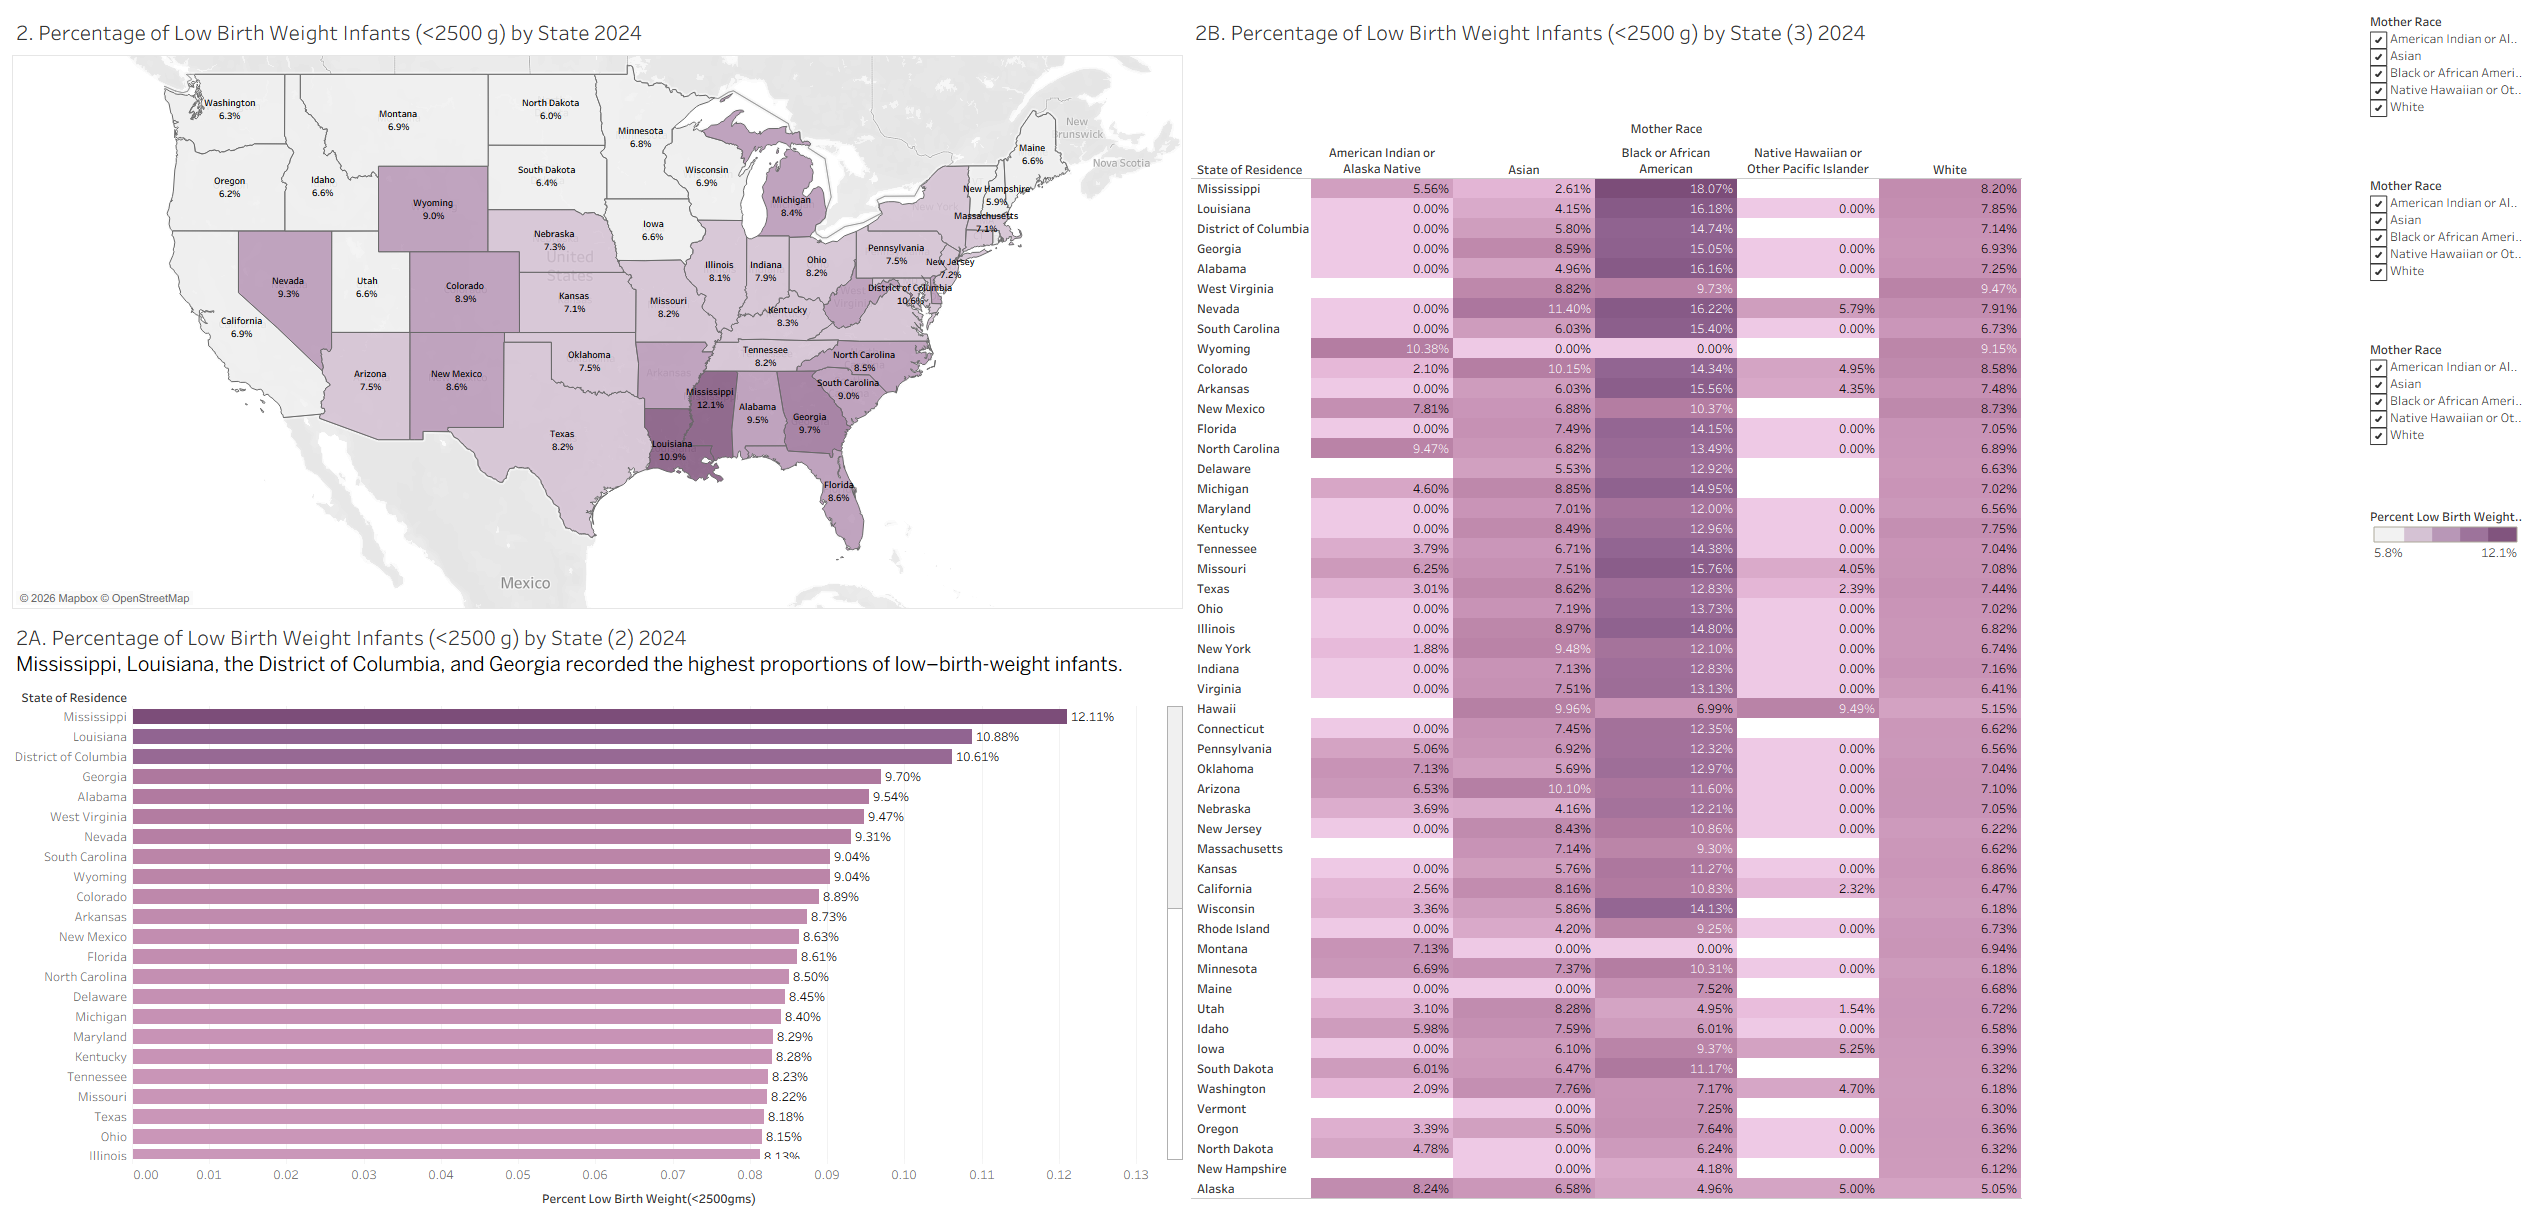

What the dashboard file says about the page in this screenshot:
{"tool":"tableau","page":{"name":"Dashboard D","canvas":[1000,1000],"units":"permille","ordinal":3},"visuals":[{"type":"worksheet","title":"2. Percentage of Low Birth Weight Infants (<2500 g) by State","mark":"Automatic","box":[3.2,6.4,465.2,493.6]},{"type":"worksheet","title":"2B. Percentage of Low Birth Weight Infants (<2500 g) by State","mark":"Square","rows":["State of Residence"],"cols":["Mother_Race"],"box":[468.4,6.4,465.3,987.1]},{"type":"filter","title":"2B. Percentage of Low Birth Weight Infants (<2500 g) by State","param":"[federated.0kmax0u1cyo38e0zmolzw0ysq9om].[none:Mother_Race:nk]","box":[933.7,6.4,63.1,131.8]},{"type":"filter","title":"2A. Percentage of Low Birth Weight Infants (<2500 g) by State","param":"[federated.0kmax0u1cyo38e0zmolzw0ysq9om].[none:Mother_Race:nk]","box":[933.7,138.3,63.1,131.8]},{"type":"filter","title":"2. Percentage of Low Birth Weight Infants (<2500 g) by State","param":"[federated.0kmax0u1cyo38e0zmolzw0ysq9om].[none:Mother_Race:nk]","box":[933.7,270.1,63.1,131.8]},{"type":"legend","title":"2. Percentage of Low Birth Weight Infants (<2500 g) by State","param":"[federated.0kmax0u1cyo38e0zmolzw0ysq9om].[usr:Calculation_-7960675280006299638:q","box":[933.7,401.9,63.1,52.2]},{"type":"worksheet","title":"2A. Percentage of Low Birth Weight Infants (<2500 g) by State","mark":"Automatic","rows":["State of Residence"],"cols":["Calculation_-7960675280006299638"],"box":[3.2,500,465.2,493.6]}]}

Visuals, with their boxes on the dashboard's canvas, which has no fixed pixel size, in thousandths of its width and height (x1, y1, x2, y2). These are canvas units, not pixel positions in the 2534x1226 screenshot, which may show the page scaled, cropped or inside an application window:
"2. Percentage of Low Birth Weight Infants (<2500 g) by State" worksheet: region(3, 6, 468, 500)
"2B. Percentage of Low Birth Weight Infants (<2500 g) by State" worksheet (Square marks): region(468, 6, 934, 994)
"2B. Percentage of Low Birth Weight Infants (<2500 g) by State" filter: region(934, 6, 997, 138)
"2A. Percentage of Low Birth Weight Infants (<2500 g) by State" filter: region(934, 138, 997, 270)
"2. Percentage of Low Birth Weight Infants (<2500 g) by State" filter: region(934, 270, 997, 402)
"2. Percentage of Low Birth Weight Infants (<2500 g) by State" legend: region(934, 402, 997, 454)
"2A. Percentage of Low Birth Weight Infants (<2500 g) by State" worksheet: region(3, 500, 468, 994)
